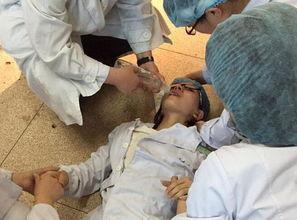Fall-Detected: (5, 70, 226, 219)
